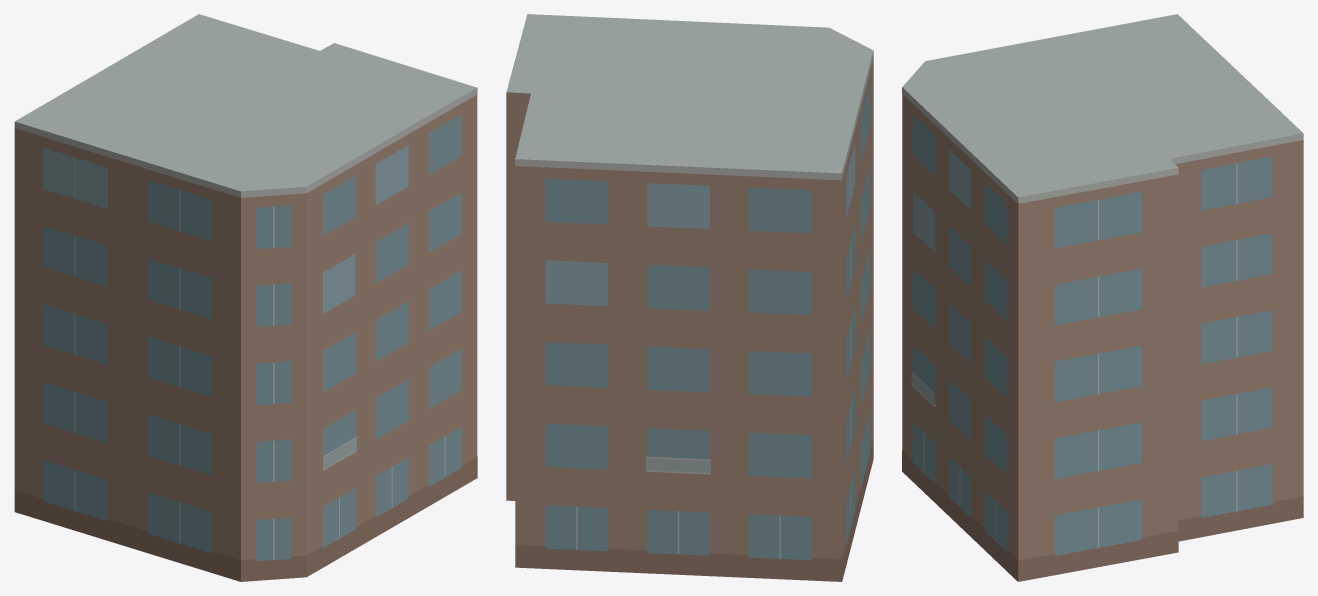
The model's file is survey-upis-32685011.glb.
3 views of the same model, side by side, from view 1: azimuth 30°, elevation 25°; view 2: azimuth 150°, elevation 25°; view 3: azimuth 270°, elevation 25° (orthographic). The views are drawn at different scales.
Visible parts, largest first — view 1: survey-upis-32685011.tmp; view 2: survey-upis-32685011.tmp; view 3: survey-upis-32685011.tmp.
Part boxes in pixels (x1,y1,x2,y2): survey-upis-32685011.tmp: (14,14,477,581); survey-upis-32685011.tmp: (506,14,873,581); survey-upis-32685011.tmp: (902,14,1303,581).
Size of the model in its own units: 14.8 by 14.45 by 13.69.
